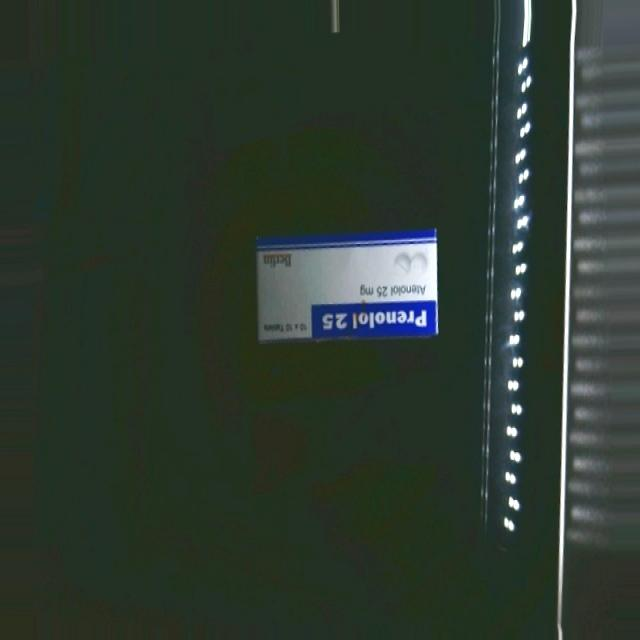prenolol: (253, 225, 442, 345)
